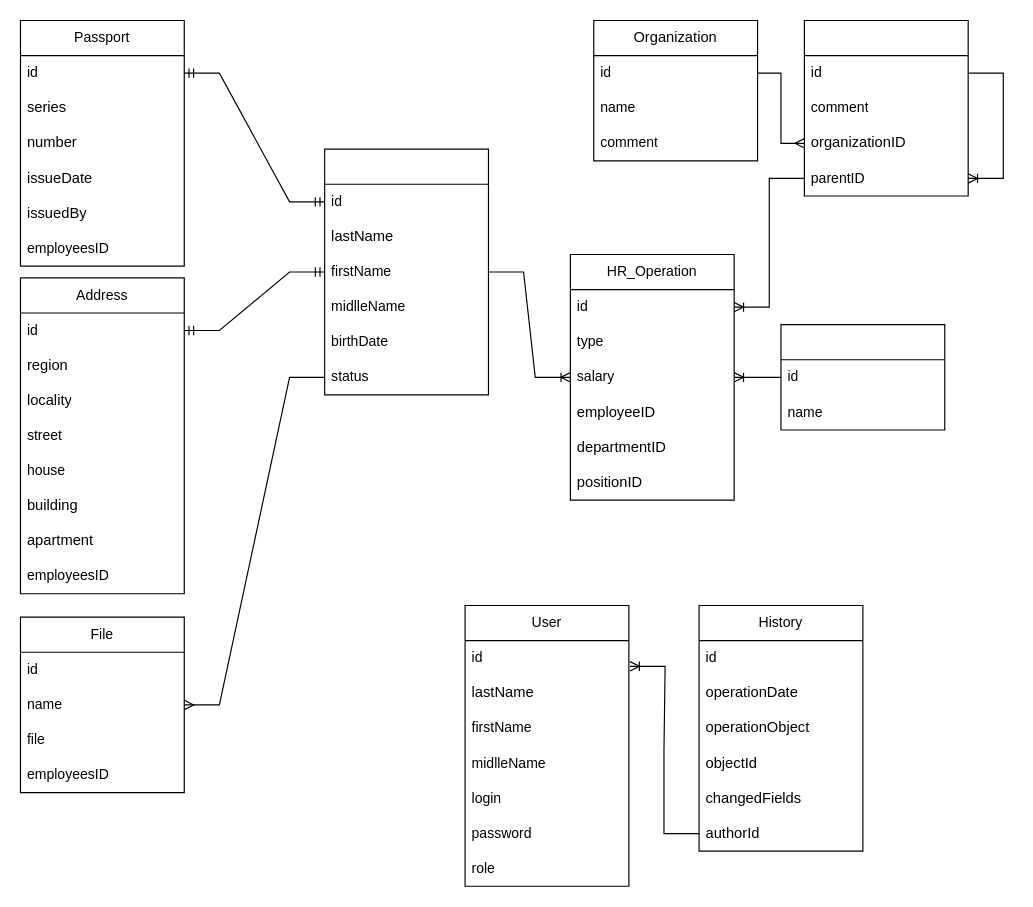
Some shapes in this 1033 by 907 pixel diagram are drawn without their labels. The shapes that lost their labels are listed below. From the top down, each one's box as (x1, y1, x2, y2) in pixels, then its label:
(803, 19, 968, 196): Departament
(324, 148, 488, 395): Employees
(780, 324, 945, 430): Position
